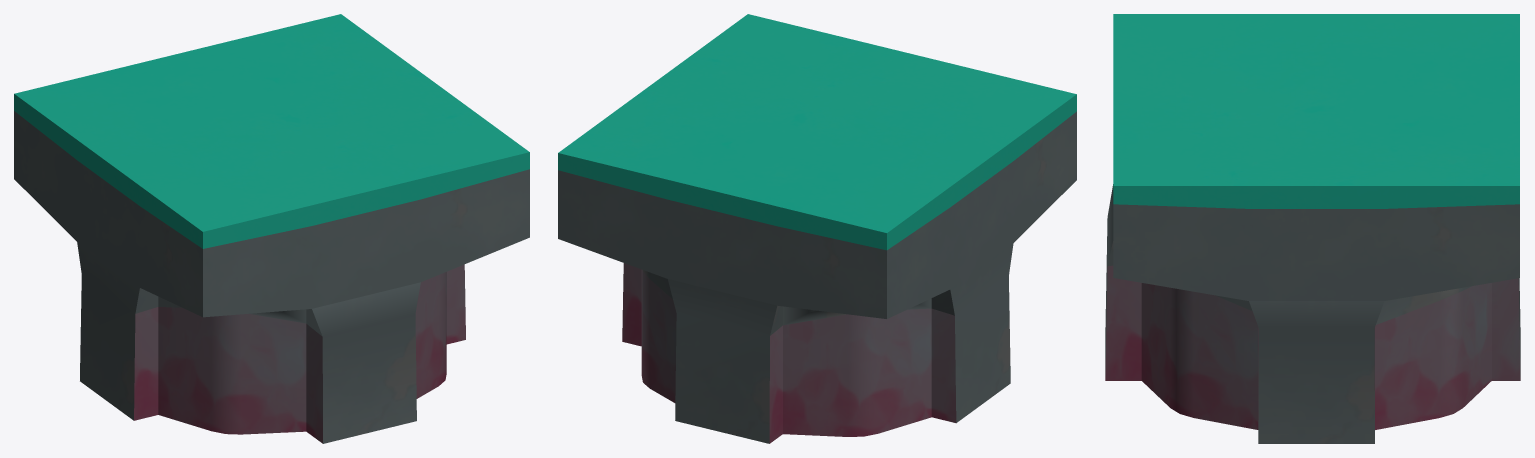
Rendered from Small_Table.fbx.
3 renders of one model, left to right at view 1: azimuth 30°, elevation 25°; view 2: azimuth 150°, elevation 25°; view 3: azimuth 270°, elevation 25°, orthographic. The views are drawn at different scales.
Visible parts, largest first — view 1: Startingroomtable; view 2: Startingroomtable; view 3: Startingroomtable.
Boxes of the visible parts, bbox=[...] form: Startingroomtable: bbox=[14, 14, 529, 443]; Startingroomtable: bbox=[558, 14, 1076, 443]; Startingroomtable: bbox=[1105, 14, 1520, 443].
Bounding box in the file's own units: 91.05 × 62.3 × 91.48.
